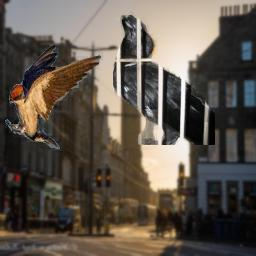Crow: (113, 15, 215, 145)
Swallow: (5, 44, 103, 156)
